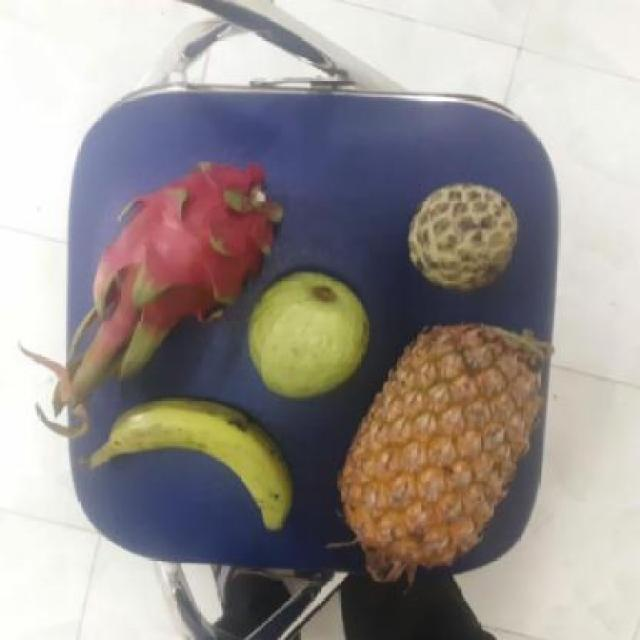banana: (108, 395, 299, 535)
dragon fruit: (96, 160, 279, 323)
guava: (240, 270, 371, 396)
pineapple: (332, 326, 543, 577)
sugar apple: (404, 183, 521, 289)
